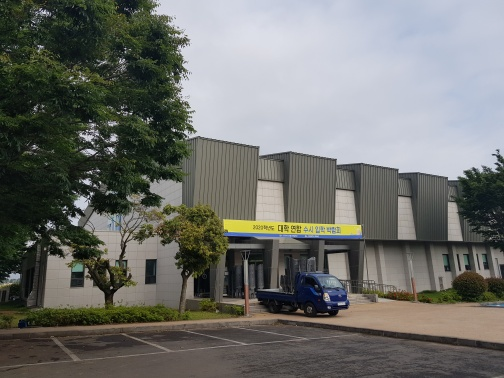Gym: (40, 130, 501, 301), (187, 138, 450, 237), (191, 235, 370, 274)
